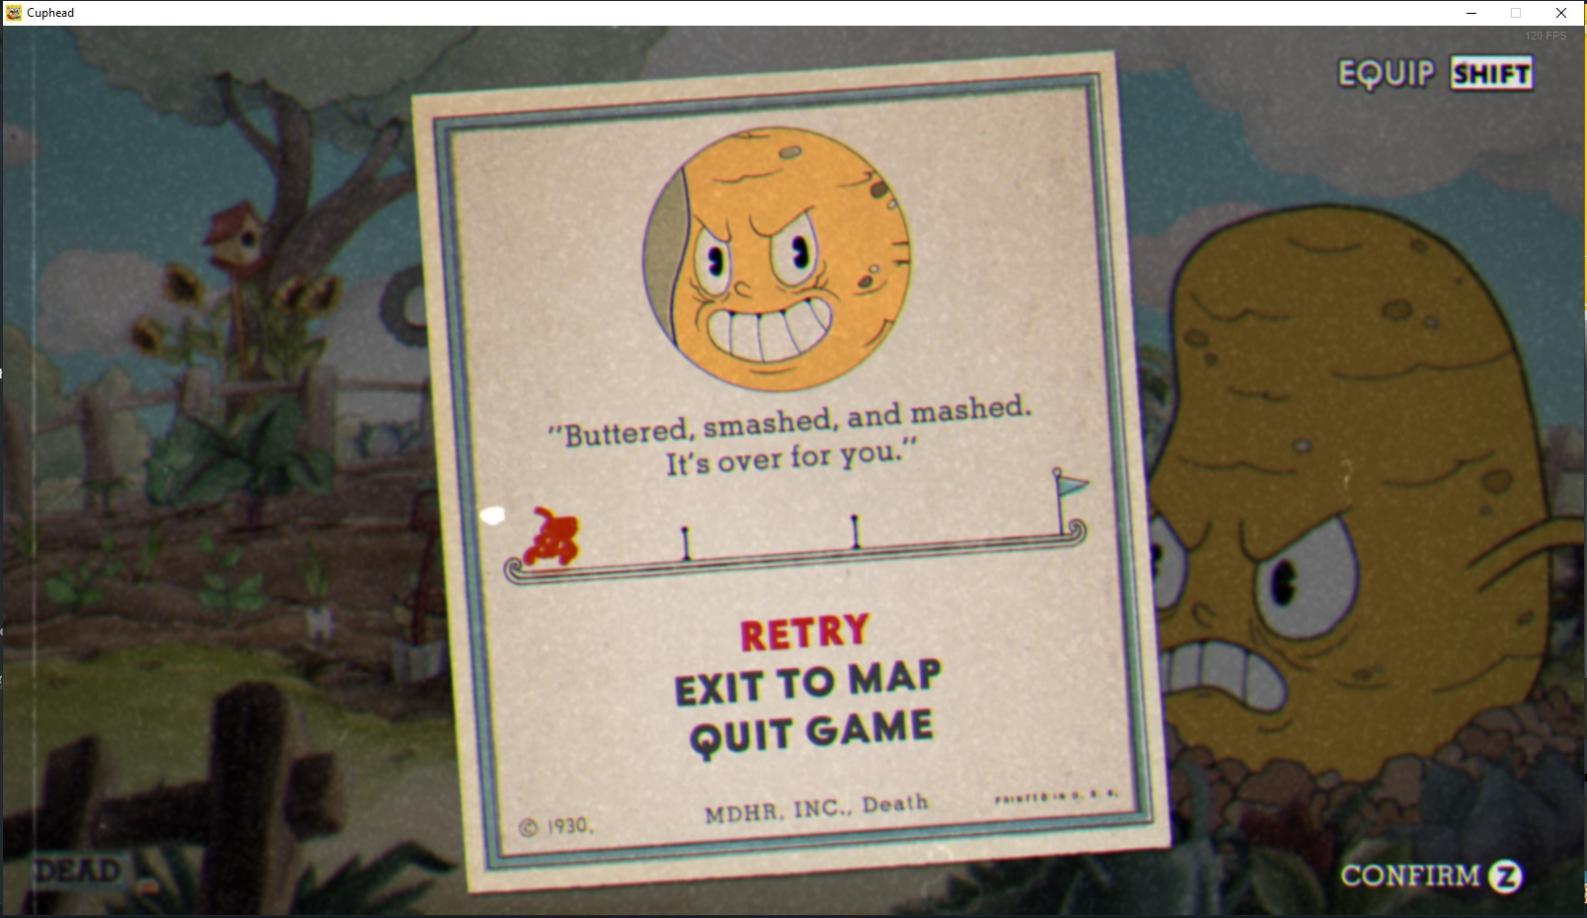player_progress: (513, 497, 590, 579)
potato_icon: (632, 112, 919, 396)
